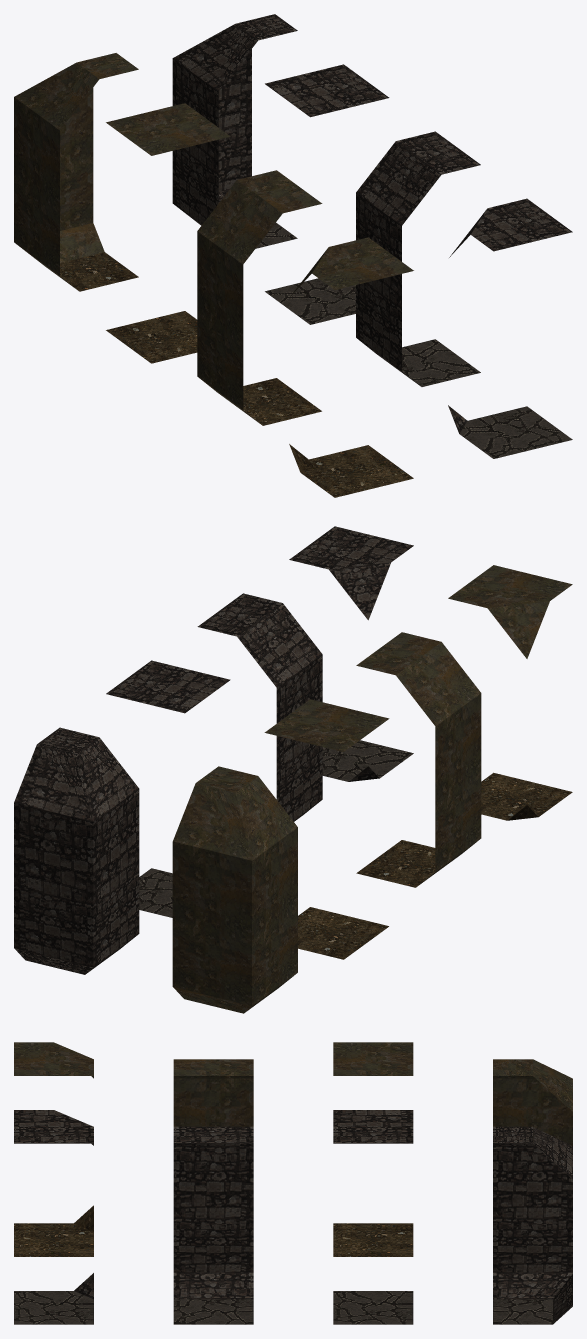
File: tileset.gltf
3 views of the same model, one above another, from view 1: azimuth 30°, elevation 25°; view 2: azimuth 150°, elevation 25°; view 3: azimuth 270°, elevation 25° (orthographic). The views are drawn at different scales.
Parts seen in each view (by area): view 1: cave_cornerin_col, cave_wall_col, dungeon_wall_col, dungeon_cornerin_col, cave_cornerout_col, dungeon_cornerout_col, cave_floor_col, dungeon_floor_col; view 2: cave_cornerin_col, dungeon_cornerin_col, cave_wall_col, dungeon_wall_col, cave_cornerout_col, dungeon_cornerout_col, cave_floor_col, dungeon_floor_col; view 3: dungeon_wall_col, dungeon_cornerin_col, cave_wall_col, cave_floor_col, dungeon_floor_col, cave_cornerin_col, dungeon_cornerout_col, cave_cornerout_col.
Part boxes in pixels (left/top/right/bottom): cave_cornerin_col: left=14, top=53, right=138, bottom=291; cave_wall_col: left=197, top=170, right=322, bottom=425; dungeon_wall_col: left=356, top=131, right=480, bottom=386; dungeon_cornerin_col: left=172, top=14, right=297, bottom=248; cave_cornerout_col: left=289, top=237, right=413, bottom=497; dungeon_cornerout_col: left=448, top=198, right=572, bottom=458; cave_floor_col: left=106, top=103, right=230, bottom=363; dungeon_floor_col: left=265, top=64, right=389, bottom=324; cave_cornerin_col: left=172, top=766, right=297, bottom=1013; dungeon_cornerin_col: left=14, top=727, right=139, bottom=974; cave_wall_col: left=356, top=632, right=481, bottom=887; dungeon_wall_col: left=197, top=593, right=322, bottom=821; cave_cornerout_col: left=448, top=565, right=572, bottom=820; dungeon_cornerout_col: left=289, top=526, right=413, bottom=781; cave_floor_col: left=264, top=699, right=389, bottom=959; dungeon_floor_col: left=106, top=660, right=230, bottom=917; dungeon_wall_col: left=173, top=1126, right=253, bottom=1324; dungeon_cornerin_col: left=493, top=1126, right=572, bottom=1324; cave_wall_col: left=173, top=1059, right=253, bottom=1126; cave_floor_col: left=333, top=1042, right=413, bottom=1256; dungeon_floor_col: left=333, top=1110, right=413, bottom=1324; cave_cornerin_col: left=493, top=1059, right=572, bottom=1145; dungeon_cornerout_col: left=14, top=1110, right=93, bottom=1324; cave_cornerout_col: left=14, top=1042, right=93, bottom=1256.
Size of the model in its own units: 3 by 2.5 by 7.
1 material, 1 textured.
